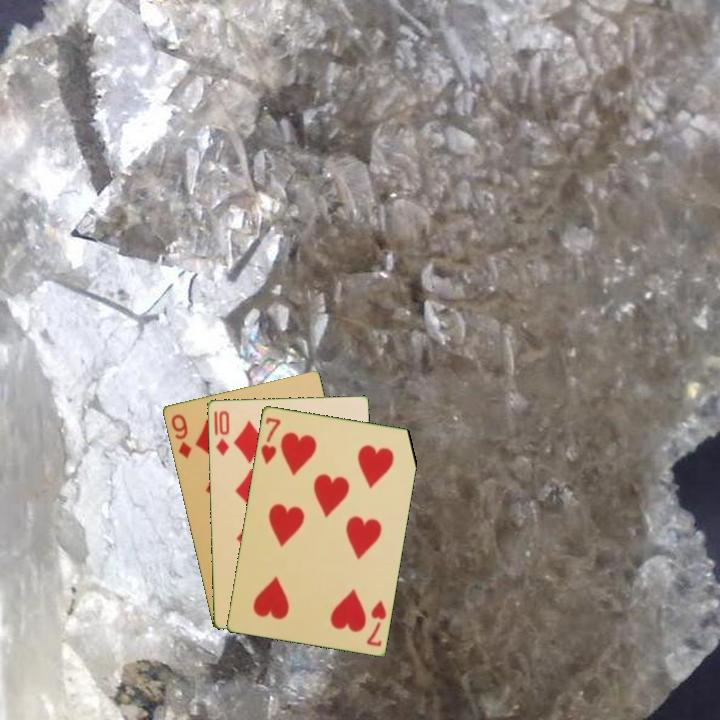10d: (212, 407, 232, 458)
7h: (257, 414, 283, 467), (363, 596, 389, 649)
9d: (167, 410, 194, 461)
